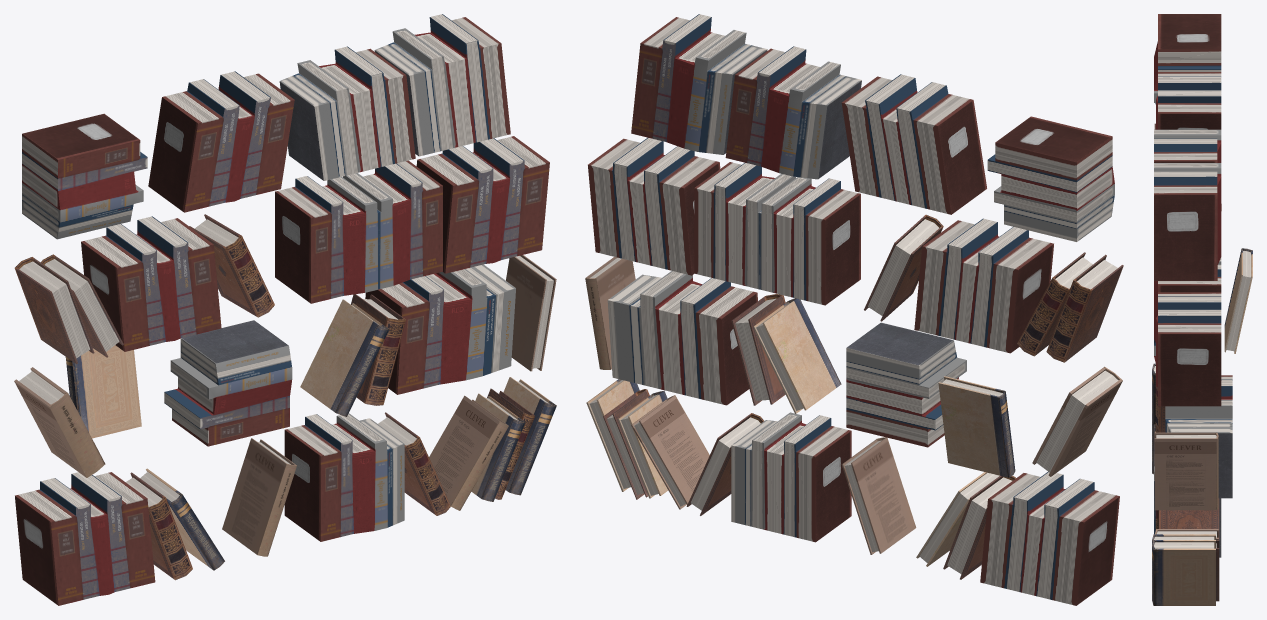
The model's file is Book_Set_BookShelf_B.FBX.
3 views of the same model, side by side, from view 1: azimuth 30°, elevation 25°; view 2: azimuth 150°, elevation 25°; view 3: azimuth 270°, elevation 25° (orthographic). The views are drawn at different scales.
Parts seen in each view (by area): view 1: Book_Set_BookShelf_B; view 2: Book_Set_BookShelf_B; view 3: Book_Set_BookShelf_B.
Boxes of the visible parts, x1,y1,x2,y2 form: Book_Set_BookShelf_B: (14, 14, 556, 605); Book_Set_BookShelf_B: (585, 14, 1123, 605); Book_Set_BookShelf_B: (1152, 14, 1252, 605).
Size of the model in its own units: 143 by 126 by 27.85.
